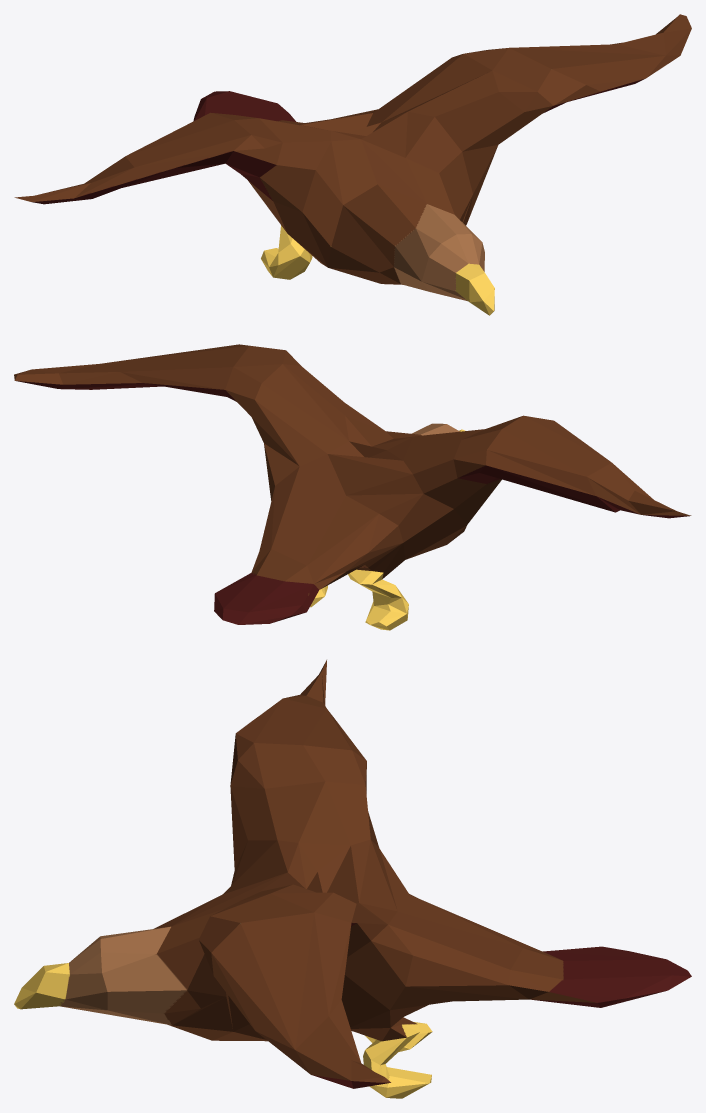
Rendered from aguili_000009.obj.
The picture shows the model from 3 angles, top to bottom: view 1: azimuth 30°, elevation 25°; view 2: azimuth 150°, elevation 25°; view 3: azimuth 270°, elevation 25°; orthographic projection. The views are drawn at different scales.
Parts seen in each view (by area): view 1: aguila.001_Cube.001; view 2: aguila.001_Cube.001; view 3: aguila.001_Cube.001.
Part boxes in pixels (x1,y1,x2,y2): aguila.001_Cube.001: (14,14,691,315); aguila.001_Cube.001: (14,344,691,630); aguila.001_Cube.001: (14,660,691,1098).
Size of the model in its own units: 82.55 by 23.23 by 56.5.
Materials: 1 (1 with a texture image).
